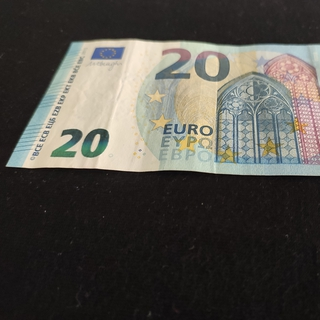20EUROFront: (5, 37, 320, 175)
